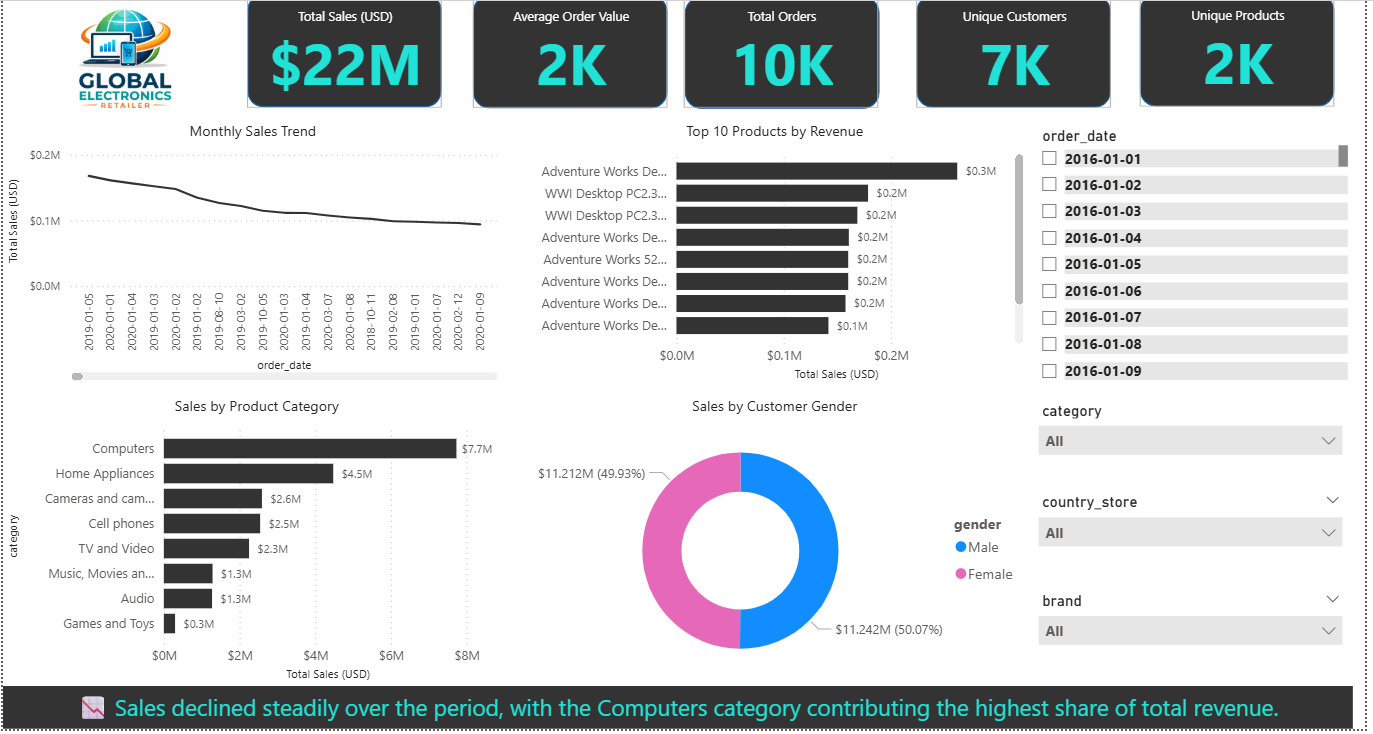

Layout of this report page (visuals, bound fields, positions):
{"tool":"powerbi","page":{"name":"Page 1","canvas":[1280,720],"ordinal":0},"visuals":[{"type":"image","title":"Logo","box":[0,0,229.4,178.8],"z":0},{"type":"shape","box":[229.4,28.9,183.1,106.6],"z":0,"group":"g1"},{"type":"cardVisual","fields":{"Data":["Final_Sales_Master.Total Sales (USD)"]},"box":[229.4,31.3,183.1,105.6],"z":0,"group":"g2"},{"type":"shape","box":[1068.5,28.9,183.1,106],"z":1000},{"type":"shape","box":[441.6,30,183.1,106.6],"z":1000,"group":"g1"},{"type":"cardVisual","fields":{"Data":["Final_Sales_Master.Average Order Value"]},"box":[441.6,31.3,183.1,105.6],"z":1000,"group":"g2"},{"type":"group","id":"g1","title":"KPI Backgrounds","box":[229.4,28.9,812.2,108.2],"z":2000},{"type":"shape","box":[640.9,31.1,183.1,106],"z":2000,"group":"g1"},{"type":"cardVisual","fields":{"Data":["Final_Sales_Master.Total Orders"]},"box":[639.8,31.3,183.1,105.6],"z":2000,"group":"g2"},{"type":"shape","box":[858.5,30.1,183.1,106],"z":3000,"group":"g1"},{"type":"cardVisual","fields":{"Data":["Final_Sales_Master.Unique Customers"]},"box":[858.5,31.3,183.1,105.6],"z":3000,"group":"g2"},{"type":"lineChart","title":"Monthly Sales Trend","fields":{"Y":["Final_Sales_Master.Total Sales (USD)"],"Category":["Final_Sales_Master.order_date"]},"box":[0,148.6,469.6,248.8],"z":3000},{"type":"group","id":"g2","title":"KPI Cards","box":[229.4,30.2,1022.2,106.6],"z":4000},{"type":"cardVisual","fields":{"Data":["Final_Sales_Master.Unique Products"]},"box":[1068.5,30.2,183.1,105.6],"z":4000,"group":"g2"},{"type":"barChart","title":"Sales by Product Category","fields":{"Category":["Final_Sales_Master.category"],"Y":["Final_Sales_Master.Total Sales (USD)"]},"box":[0,407.2,477.2,272.5],"z":5000},{"type":"clusteredBarChart","title":"Top 10 Products by Revenue","fields":{"Category":["Final_Sales_Master.product_name"],"Y":["Final_Sales_Master.Total Sales (USD)"]},"box":[486.9,148.6,477.2,248.8],"z":6000},{"type":"donutChart","title":"Sales by Customer Gender","fields":{"Category":["Final_Sales_Master.gender"],"Y":["Final_Sales_Master.Total Sales (USD)"]},"box":[486.9,407.2,477.2,272.5],"z":7000},{"type":"slicer","fields":{"Values":["Final_Sales_Master.category"]},"box":[964.1,407.2,304.8,70],"z":8000},{"type":"slicer","fields":{"Values":["Final_Sales_Master.country_store"]},"box":[964.1,493.3,304.8,68.9],"z":9000},{"type":"slicer","fields":{"Values":["Final_Sales_Master.brand"]},"box":[964.1,586,304.8,66.8],"z":10000},{"type":"textbox","box":[0,679.7,1268.9,39.9],"z":11000},{"type":"slicer","fields":{"Values":["Final_Sales_Master.order_date"]},"box":[964.1,148.6,304.8,248.8],"z":12000}]}

Visuals, with their boxes on the page's 1280x720 design canvas (x1, y1, x2, y2). These are canvas units, not pixel positions in the 1373x734 screenshot, which may show the page scaled, cropped or inside an application window:
"Logo" image: 0:0:229:179
shape: 229:29:412:136
cardVisual - Final_Sales_Master.Total Sales (USD): 229:31:412:137
shape: 1068:29:1252:135
shape: 442:30:625:137
cardVisual - Final_Sales_Master.Average Order Value: 442:31:625:137
"KPI Backgrounds" group: 229:29:1042:137
shape: 641:31:824:137
cardVisual - Final_Sales_Master.Total Orders: 640:31:823:137
shape: 858:30:1042:136
cardVisual - Final_Sales_Master.Unique Customers: 858:31:1042:137
"Monthly Sales Trend" lineChart: 0:149:470:397
"KPI Cards" group: 229:30:1252:137
cardVisual - Final_Sales_Master.Unique Products: 1068:30:1252:136
"Sales by Product Category" barChart: 0:407:477:680
"Top 10 Products by Revenue" clusteredBarChart: 487:149:964:397
"Sales by Customer Gender" donutChart: 487:407:964:680
slicer - Final_Sales_Master.category: 964:407:1269:477
slicer - Final_Sales_Master.country_store: 964:493:1269:562
slicer - Final_Sales_Master.brand: 964:586:1269:653
textbox: 0:680:1269:720
slicer - Final_Sales_Master.order_date: 964:149:1269:397
